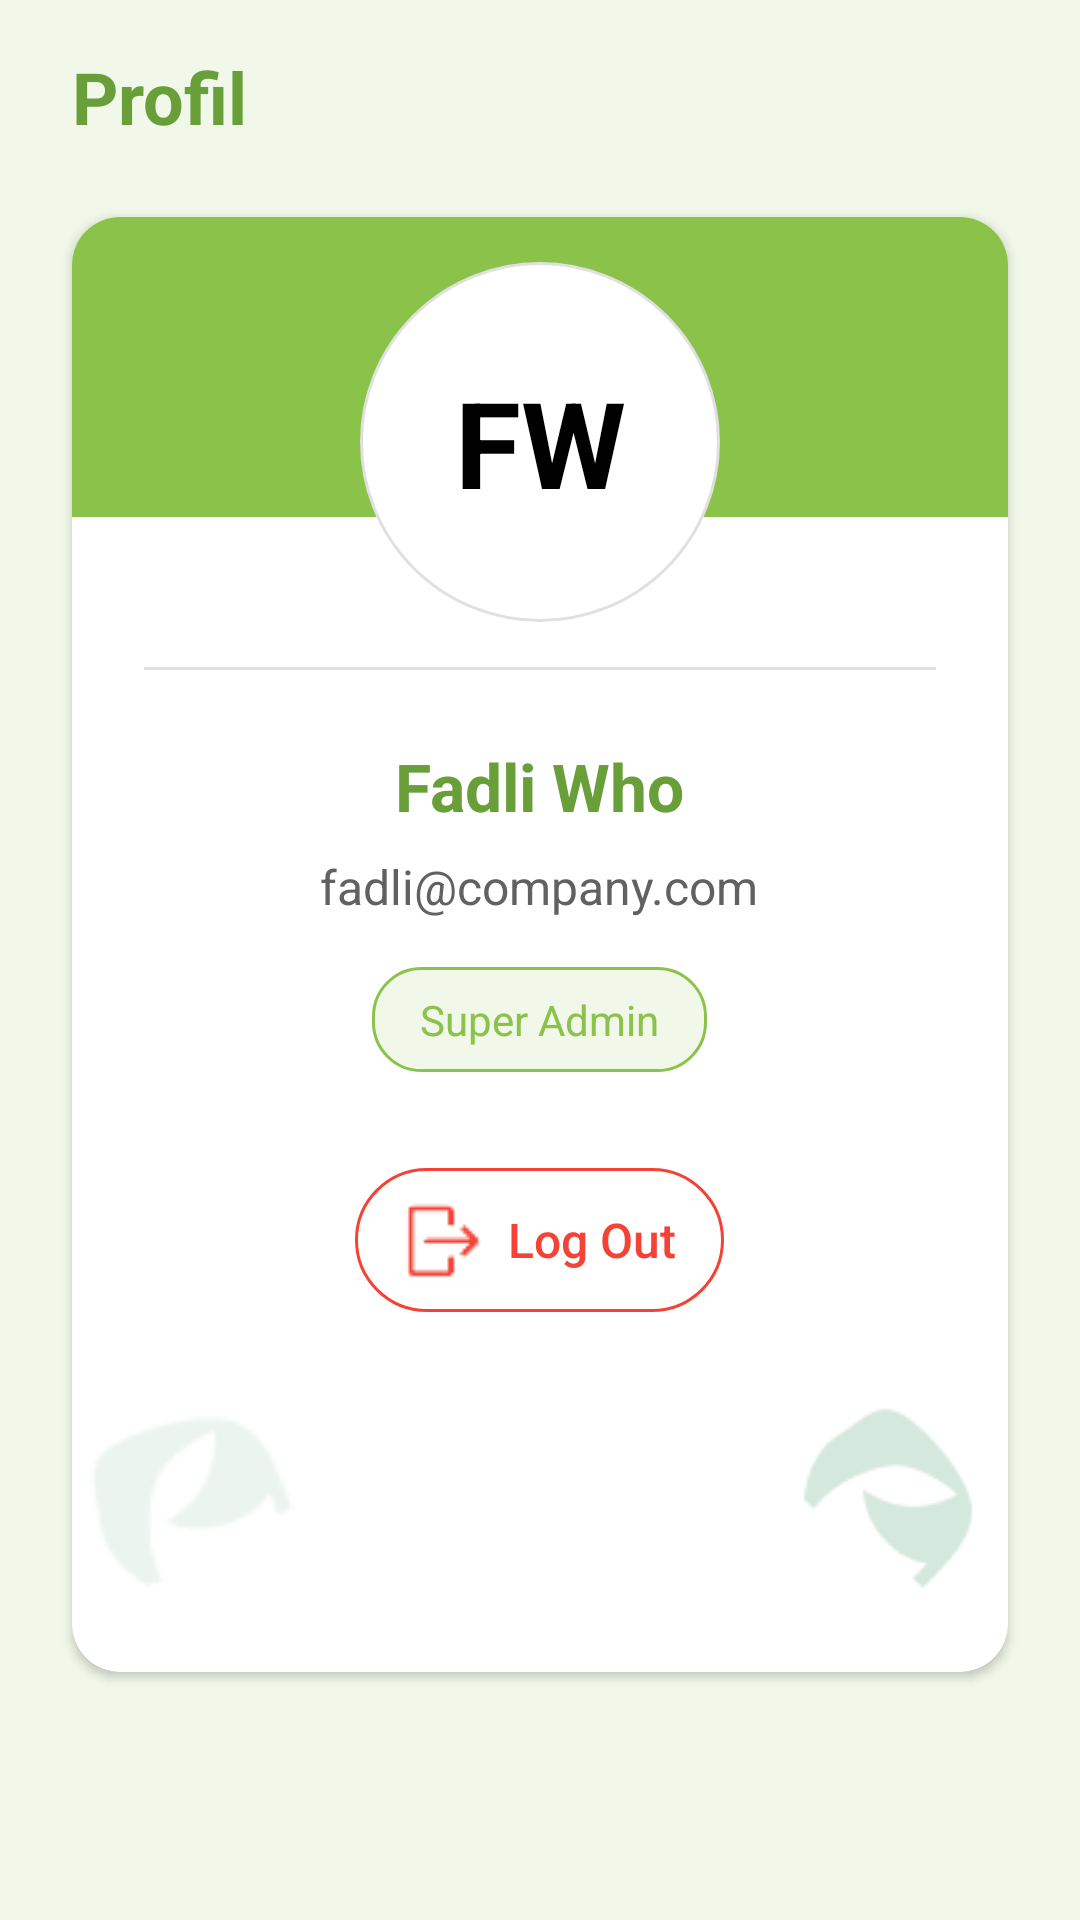

Icon click points for this 1080×1920 phone screenshot, format point (x, y):
watermark right: point (888, 1498)
